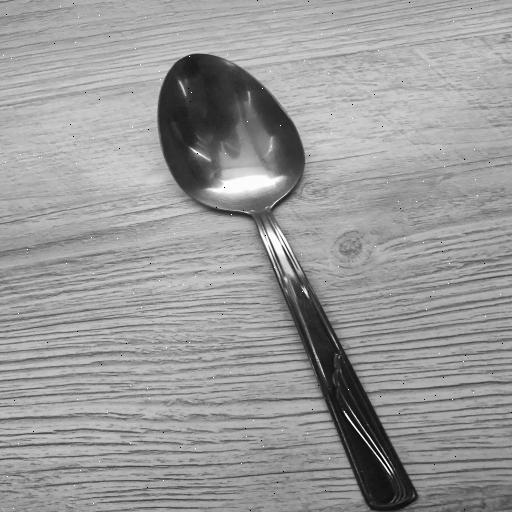spoon: (152, 50, 421, 506)
